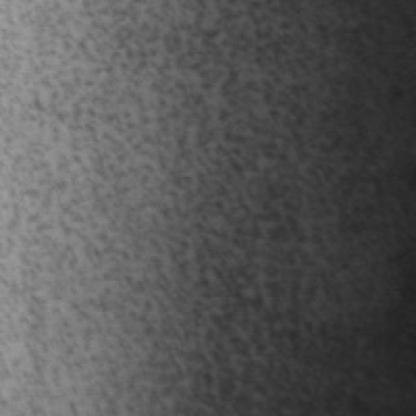pitted_surface: (52, 2, 389, 414)
